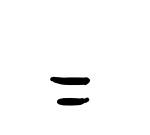eqv: (50, 77, 90, 106)
